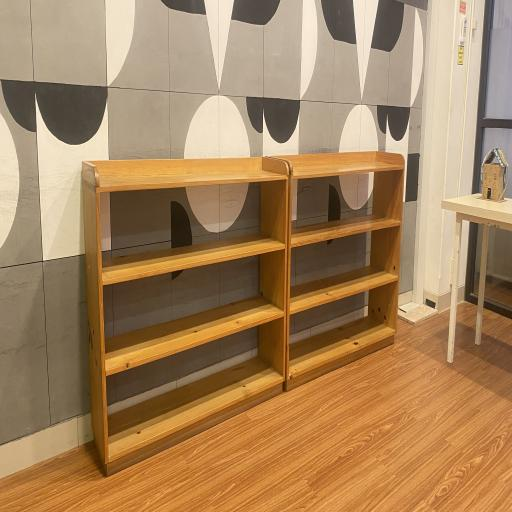lemari: (80, 154, 290, 479), (264, 150, 406, 396)
